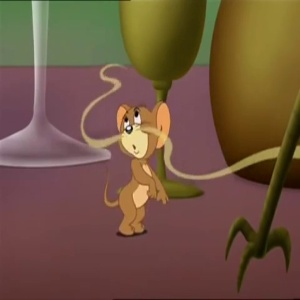Jerry: (115, 97, 176, 162)
